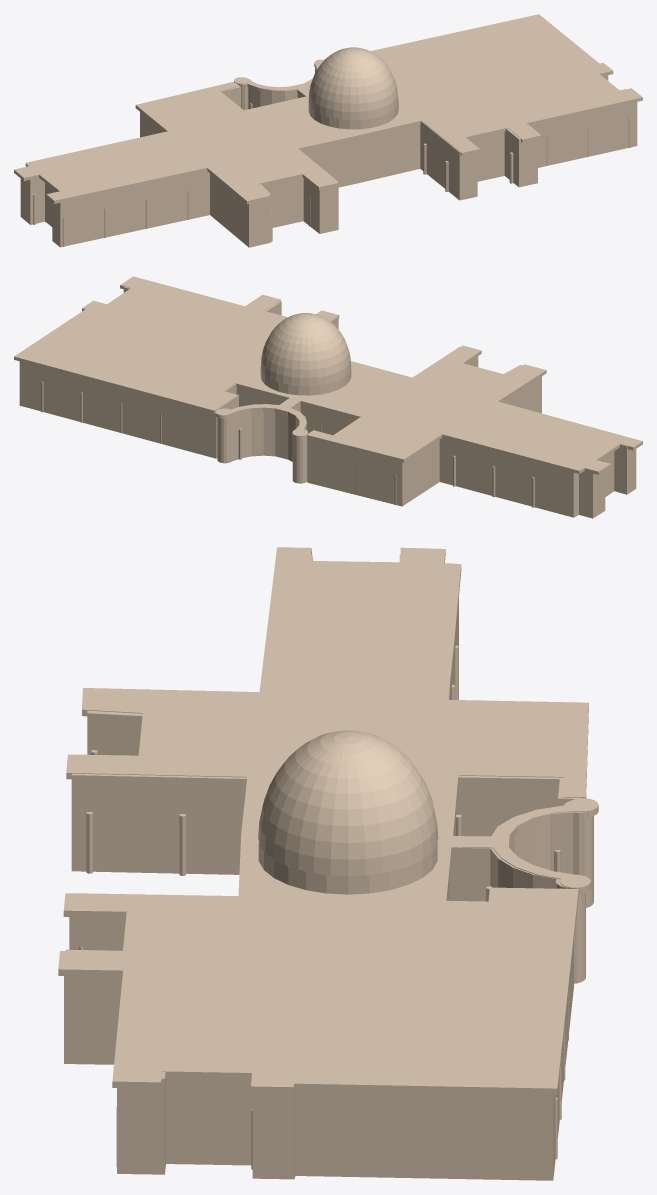
Rendered from north-block_lod0.glb.
3 views of the same model, one above another, from view 1: azimuth 30°, elevation 25°; view 2: azimuth 150°, elevation 25°; view 3: azimuth 270°, elevation 25° (orthographic). The views are drawn at different scales.
Parts seen in each view (by area): view 1: north-block; view 2: north-block; view 3: north-block.
Part boxes in pixels (<box>): north-block: <box>14,14,642,247</box>; north-block: <box>14,276,642,518</box>; north-block: <box>58,547,598,1180</box>.
Size of the model in its own units: 362 by 67.48 by 153.
